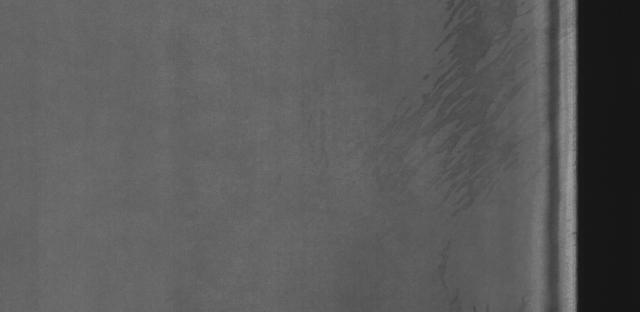water_spot: (381, 2, 537, 215)
